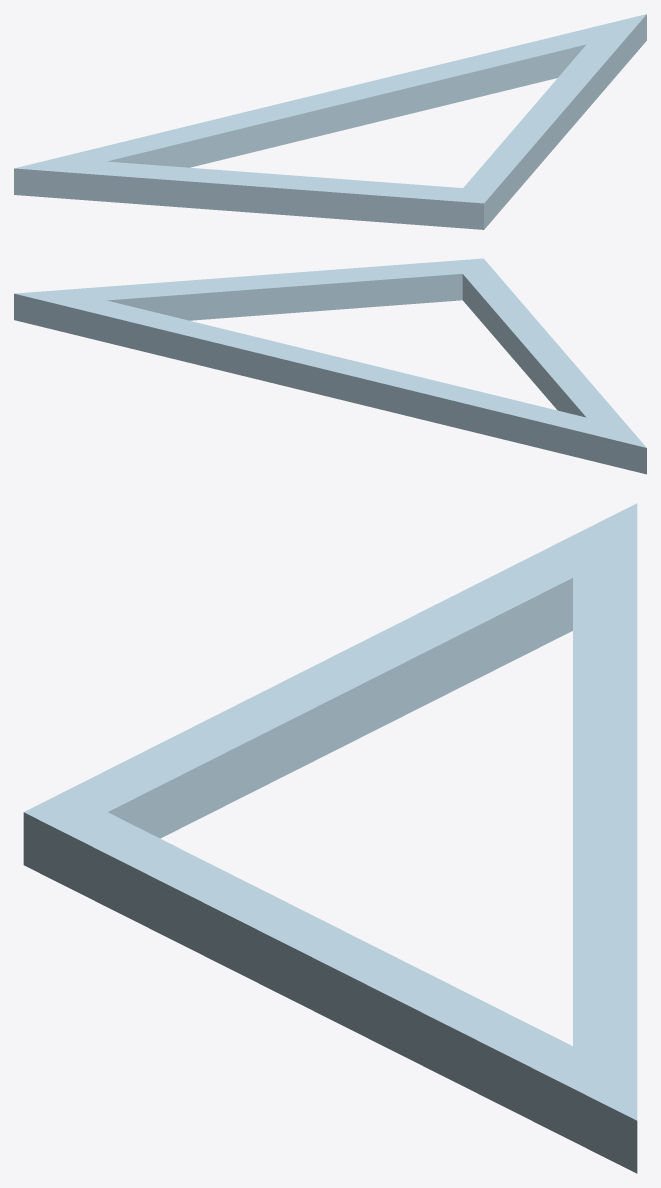
Rendered from hangar-part.gltf.
The picture shows the model from 3 angles, top to bottom: view 1: azimuth 30°, elevation 25°; view 2: azimuth 150°, elevation 25°; view 3: azimuth 270°, elevation 25°; orthographic projection. The views are drawn at different scales.
Visible parts, largest first — view 1: Part 1; view 2: Part 1; view 3: Part 1.
Part boxes in pixels (bbox=[...]): Part 1: bbox=[14, 14, 646, 229]; Part 1: bbox=[14, 258, 646, 474]; Part 1: bbox=[23, 503, 637, 1173].
Size of the model in its own units: 5 by 0.2 by 2.1.
